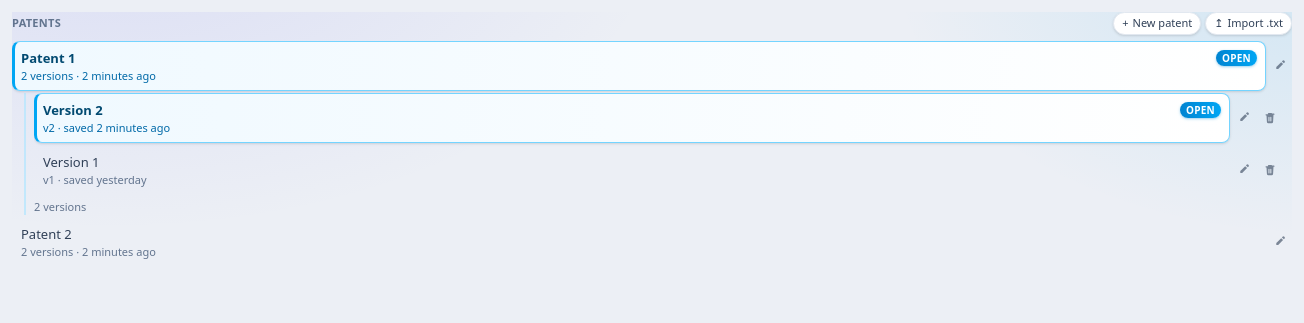
PatentTree › keeps a rejected rename open, with the reason under the field
The image size is (1304, 323).
Click the button named "Rename version 2" at [1244, 118], box x1=1232 y1=92 x2=1256 y2=142
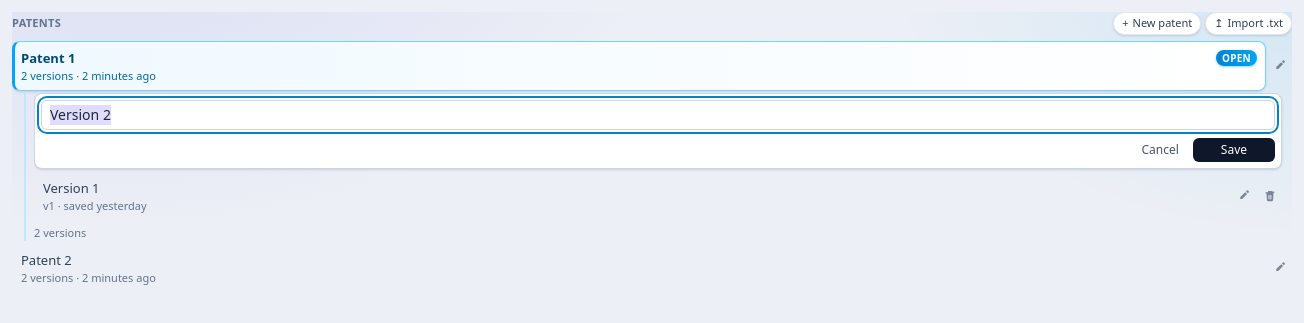
Replace the text in the field named "Rename version 2" with "Final" at [658, 114], box x1=41 y1=100 x2=1275 y2=130
Then press Enter
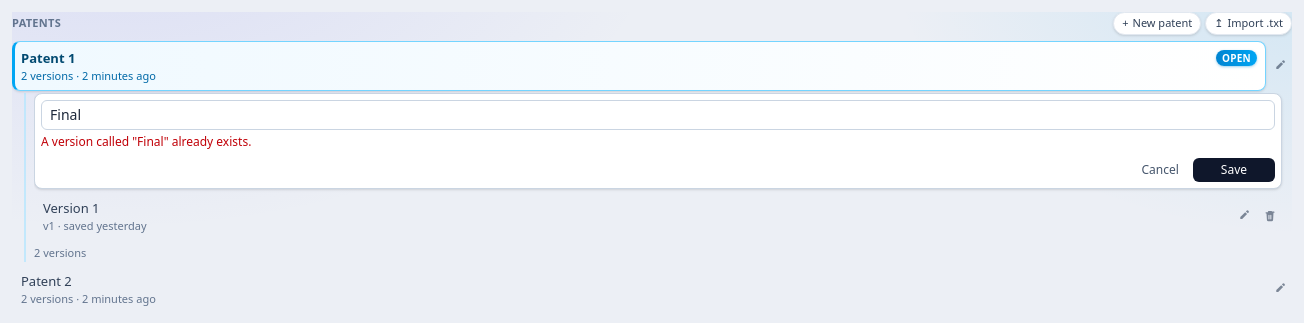
Expected: the message reads "A version called \"Final\" already exists.", x1=41 y1=132 x2=251 y2=150
